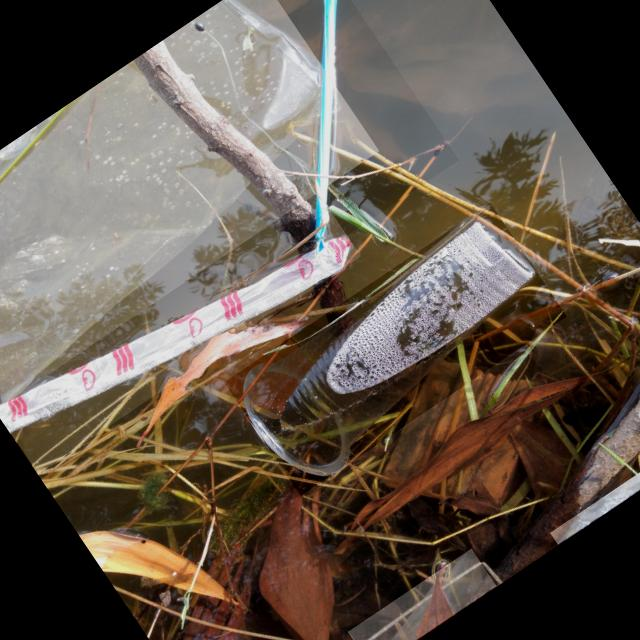Cup: (242, 220, 535, 476)
Plastic film: (0, 0, 322, 402), (0, 237, 351, 433), (392, 553, 484, 640), (558, 473, 640, 544)
Straw: (316, 0, 338, 256)
